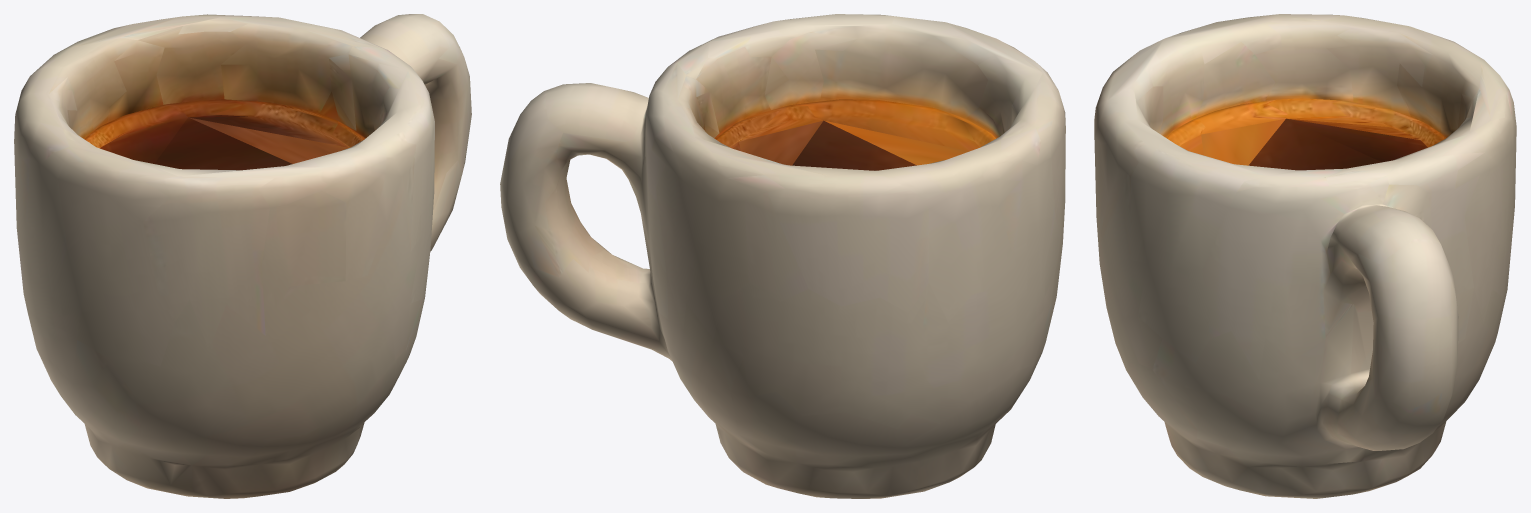
The model's file is cafe-espresso-cup.glb.
3 views of the same model, side by side, from view 1: azimuth 30°, elevation 25°; view 2: azimuth 150°, elevation 25°; view 3: azimuth 270°, elevation 25° (orthographic).
Parts seen in each view (by area): view 1: tripo_node_316cfbc6-3b7a-4cd5-aebb-b9853e47c327; view 2: tripo_node_316cfbc6-3b7a-4cd5-aebb-b9853e47c327; view 3: tripo_node_316cfbc6-3b7a-4cd5-aebb-b9853e47c327.
Boxes of the visible parts, box(x1,y1,x2,y2) form: tripo_node_316cfbc6-3b7a-4cd5-aebb-b9853e47c327: box(14, 14, 471, 498); tripo_node_316cfbc6-3b7a-4cd5-aebb-b9853e47c327: box(500, 14, 1065, 498); tripo_node_316cfbc6-3b7a-4cd5-aebb-b9853e47c327: box(1094, 14, 1516, 498).
Size of the model in its own units: 0.0927 by 0.065 by 0.071.
1 material, 1 textured.
